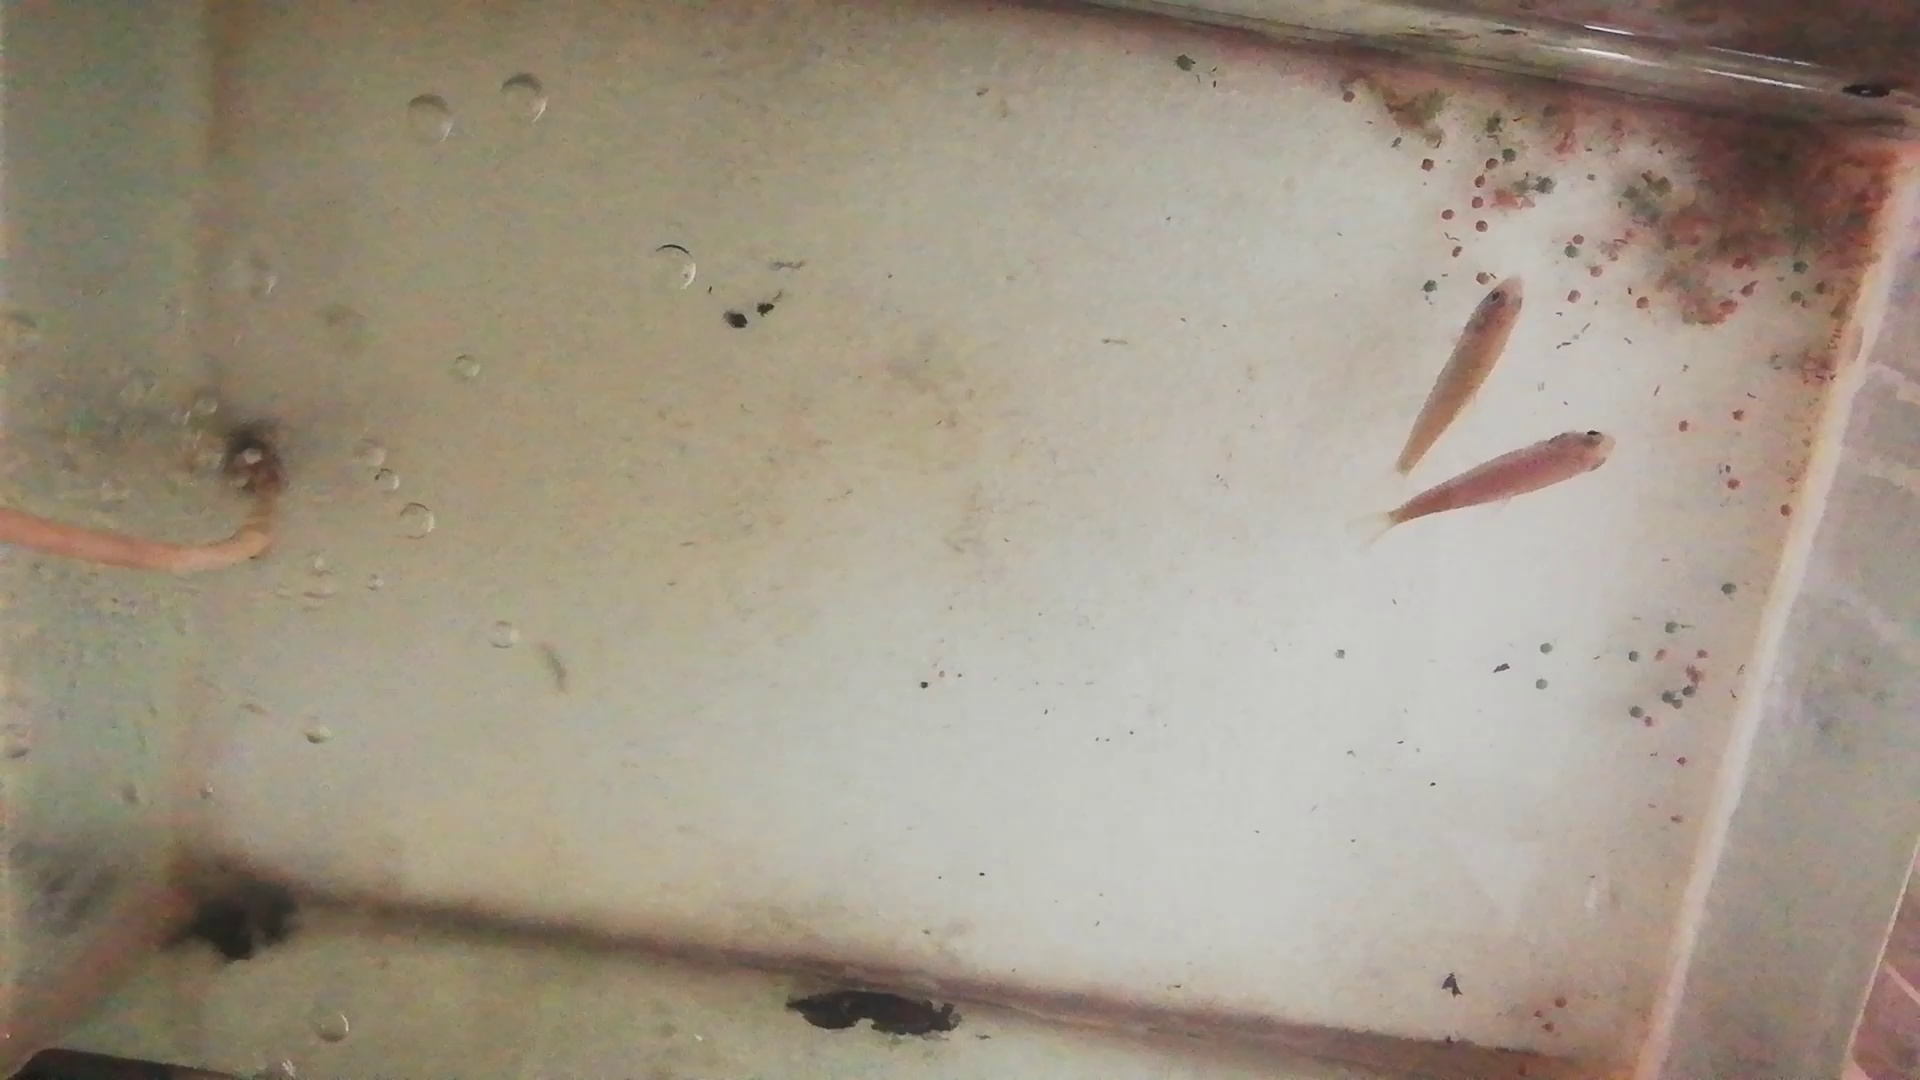fish: (1395, 269, 1532, 473), (1390, 426, 1622, 526)
